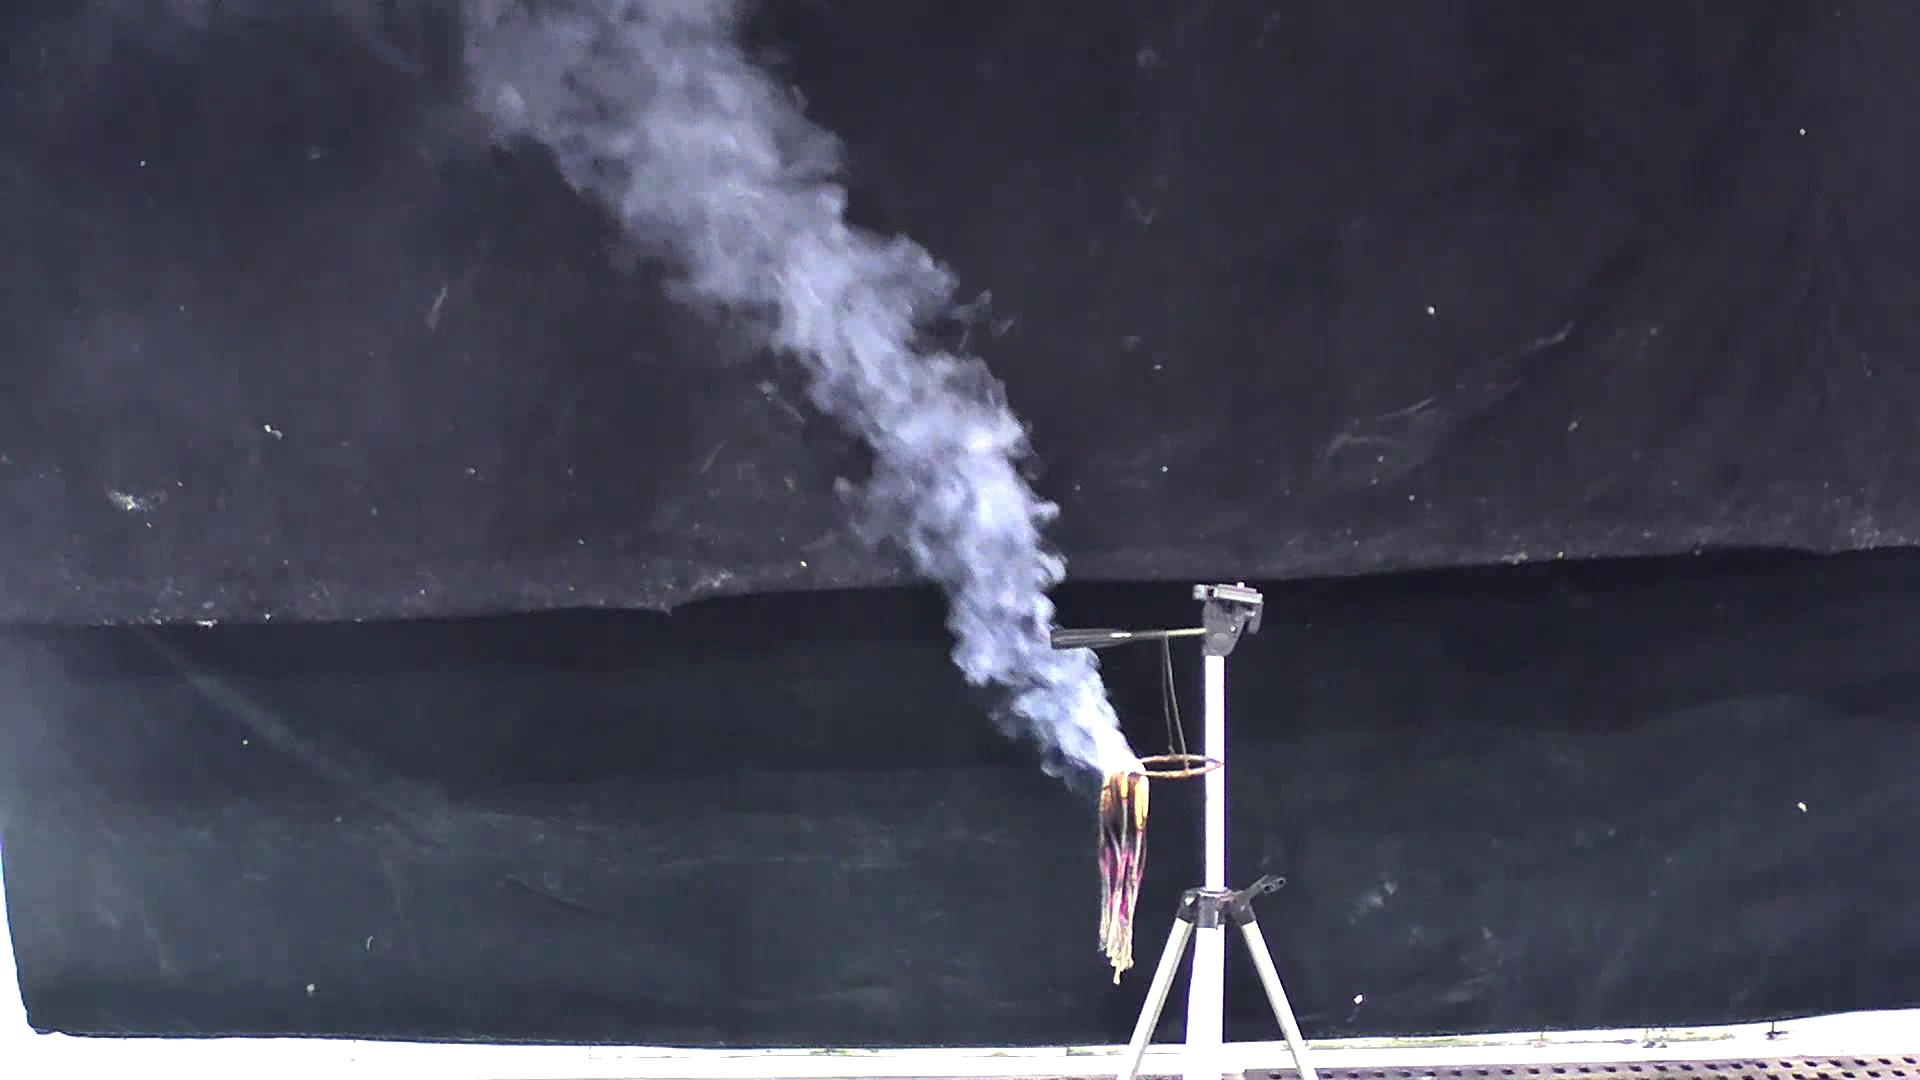smoke: (465, 9, 1117, 766)
